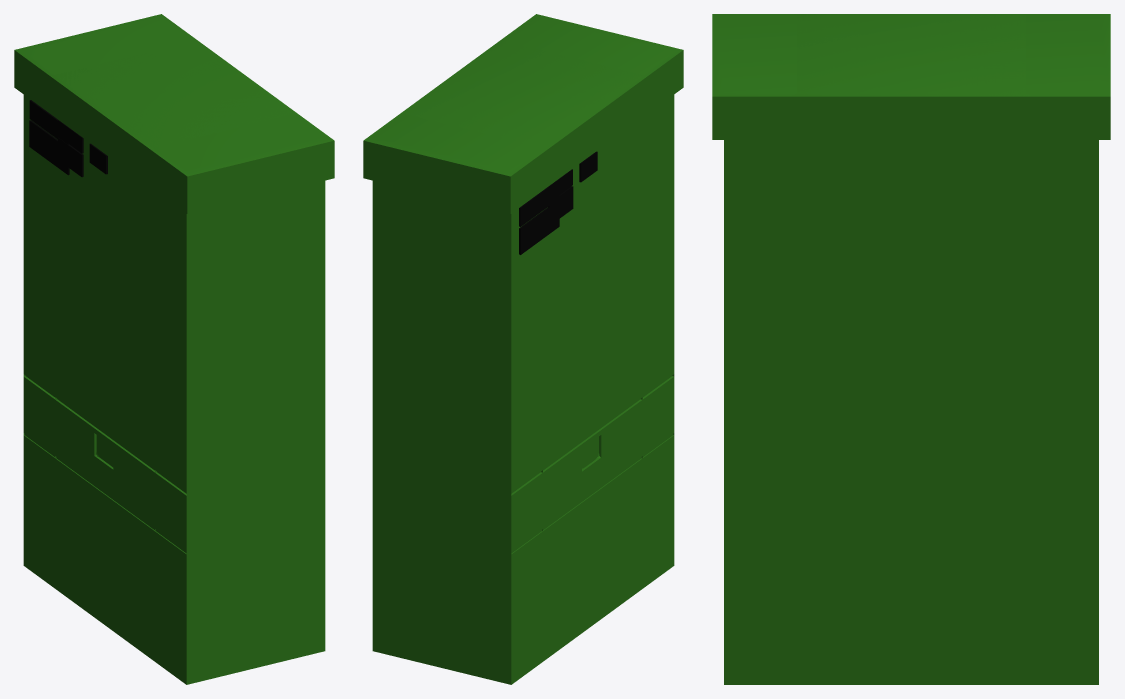
File: Elbokse.fbx
The picture shows the model from 3 angles, left to right: view 1: azimuth 30°, elevation 25°; view 2: azimuth 150°, elevation 25°; view 3: azimuth 270°, elevation 25°; orthographic projection. The views are drawn at different scales.
Visible parts, largest first — view 1: Elboks Stor, Elboks Lille; view 2: Elboks Stor, Elboks Lille; view 3: Elboks Stor, Elboks Lille.
Part boxes in pixels (x1=…): Elboks Stor: x1=14, y1=14, x2=334, y2=684; Elboks Lille: x1=48, y1=49, x2=299, y2=661; Elboks Stor: x1=363, y1=14, x2=683, y2=684; Elboks Lille: x1=397, y1=39, x2=646, y2=661; Elboks Stor: x1=712, y1=14, x2=1110, y2=684; Elboks Lille: x1=790, y1=14, x2=1032, y2=684.
Size of the model in its own units: 24.29 by 81 by 49.41.
